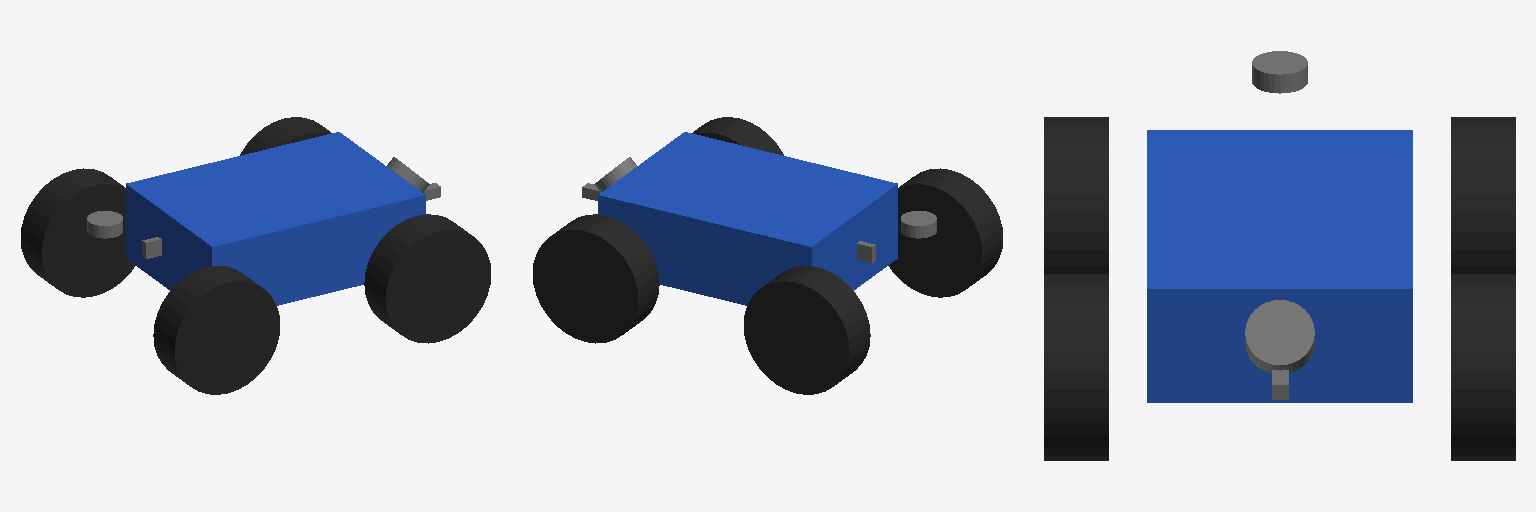
robot.urdf — slip:
<?xml version="1.0"?>
<!-- This URDF was automatically created by SolidWorks to URDF Exporter! Originally created by Stephen Brawner (brawner@gmail.com) 
     Commit Version: 1.6.0-4-g7f85cfe  Build Version: 1.6.7995.38578
     For more information, please see http://wiki.ros.org/sw_urdf_exporter -->
<robot
  name="slip">
  <link
    name="base_link">
    <inertial>
      <origin
        xyz="-0.00351096623508884 0.00311304963751545 0.0860952686335844"
        rpy="0 0 0" />
      <mass
        value="5.0" />
      <inertia
        ixx="0.01394"
        ixy="-0.000011"
        ixz="0.000112"
        iyy="0.01918"
        iyz="0.000014"
        izz="0.02188" />
    </inertial>
    <visual>
      <origin xyz="0.05 0 0.1" rpy="0 0 0" />
      <geometry>
        <box size="0.54 0.38 0.18"/>
      </geometry>
      <material name="blue">
        <color rgba="0.2 0.4 0.8 1"/>
      </material>
    </visual>
    <collision>
      <origin xyz="0.05 0 0.1" rpy="0 0 0" />
      <geometry>
        <box size="0.54 0.38 0.18"/>
      </geometry>
    </collision>
  </link>
  <link
    name="front_left_wheel">
    <inertial>
      <origin
        xyz="-1.33342749659149E-05 -0.000549739183273168 -0.0467828359170405"
        rpy="0 0 0" />
      <mass
        value="0.5" />
      <inertia
        ixx="0.002876"
        ixy="-3.57E-07"
        ixz="-1.35E-08"
        iyy="0.002859"
        iyz="1.14E-05"
        izz="0.004474" />
    </inertial>
    <visual>
      <origin
        xyz="0 0 0"
        rpy="0 0 0" />
      <geometry>
        <cylinder radius="0.134" length="0.093"/>
      </geometry>
      <material name="dark_grey">
        <color rgba="0.2 0.2 0.2 1"/>
      </material>
    </visual>
    <collision>
      <origin xyz="0 0 -0.04678" rpy="0 0 0" />
      <geometry>
        <cylinder radius="0.134" length="0.093"/>
      </geometry>
    </collision>
  </link>
  <joint
    name="front_left_wheel_joint"
    type="continuous">
    <origin
      xyz="0.266860000000023 0.29105 0.040689999999999"
      rpy="-1.5707963267949 0 0" />
    <parent
      link="base_link" />
    <child
      link="front_left_wheel" />
    <axis
      xyz="0 0 1" />
  </joint>
  <link
    name="front_right_wheel">
    <inertial>
      <origin
        xyz="-1.55778595030132E-05 -0.000549737840802395 -0.0467815237578565"
        rpy="0 0 0" />
      <mass
        value="0.5" />
      <inertia
        ixx="0.002876"
        ixy="-3.57E-07"
        ixz="-3.94E-09"
        iyy="0.002859"
        iyz="1.14E-05"
        izz="0.004474" />
    </inertial>
    <visual>
      <origin
        xyz="0 0 0"
        rpy="0 0 0" />
      <geometry>
        <cylinder radius="0.134" length="0.093"/>
      </geometry>
      <material name="dark_grey">
        <color rgba="0.2 0.2 0.2 1"/>
      </material>
    </visual>
    <collision>
      <origin xyz="0 0 -0.04678" rpy="0 0 0" />
      <geometry>
        <cylinder radius="0.134" length="0.093"/>
      </geometry>
    </collision>
  </link>
  <joint
    name="front_right_wheel_joint"
    type="continuous">
    <origin
      xyz="0.266860000000024 -0.291049999999999 0.0406900000000003"
      rpy="-1.5707963267949 0 -3.14159265358979" />
    <parent
      link="base_link" />
    <child
      link="front_right_wheel" />
    <axis
      xyz="0 0 -1" />
  </joint>
  <link
    name="rear_left_wheel">
    <inertial>
      <origin
        xyz="1.23404959611328E-05 0.000549743587111171 -0.0467823898889478"
        rpy="0 0 0" />
      <mass
        value="0.5" />
      <inertia
        ixx="0.002876"
        ixy="-3.57E-07"
        ixz="-1.64E-08"
        iyy="0.002859"
        iyz="-1.14E-05"
        izz="0.004474" />
    </inertial>
    <visual>
      <origin
        xyz="0 0 0"
        rpy="0 0 0" />
      <geometry>
        <cylinder radius="0.134" length="0.093"/>
      </geometry>
      <material name="dark_grey">
        <color rgba="0.2 0.2 0.2 1"/>
      </material>
    </visual>
    <collision>
      <origin xyz="0 0 -0.04678" rpy="0 0 0" />
      <geometry>
        <cylinder radius="0.134" length="0.093"/>
      </geometry>
    </collision>
  </link>
  <joint
    name="rear_left_wheel_joint"
    type="continuous">
    <origin
      xyz="-0.266859999999976 0.29105 0.0406899999999989"
      rpy="1.5707963267949 0 3.14159265358979" />
    <parent
      link="base_link" />
    <child
      link="rear_left_wheel" />
    <axis
      xyz="0 0 1" />
  </joint>
  <link
    name="rear_right_wheel">
    <inertial>
      <origin
        xyz="1.49060315393912E-05 0.00054973478604689 -0.0467818196781258"
        rpy="0 0 0" />
      <mass
        value="0.5" />
      <inertia
        ixx="0.002876"
        ixy="-3.57E-07"
        ixz="3.53E-09"
        iyy="0.002859"
        iyz="-1.14E-05"
        izz="0.004474" />
    </inertial>
    <visual>
      <origin
        xyz="0 0 0"
        rpy="0 0 0" />
      <geometry>
        <cylinder radius="0.134" length="0.093"/>
      </geometry>
      <material name="dark_grey">
        <color rgba="0.2 0.2 0.2 1"/>
      </material>
    </visual>
    <collision>
      <origin xyz="0 0 -0.04678" rpy="0 0 0" />
      <geometry>
        <cylinder radius="0.134" length="0.093"/>
      </geometry>
    </collision>
  </link>
  <joint
    name="rear_right_wheel_joint"
    type="continuous">
    <origin
      xyz="-0.266859999999975 -0.291049999999999 0.0406900000000002"
      rpy="1.5707963267949 0 0" />
    <parent
      link="base_link" />
    <child
      link="rear_right_wheel" />
    <axis
      xyz="0 0 -1" />
  </joint>
  <link
    name="front_lidar">
    <inertial>
      <origin
        xyz="-3.45312616001348E-08 4.40326983208728E-10 0.0162303882472055"
        rpy="0 0 0" />
      <mass
        value="0.0455627274361424" />
      <inertia
        ixx="9.78183551575387E-06"
        ixy="-1.91036562370552E-10"
        ixz="-1.40472076579896E-11"
        iyy="9.78167247162091E-06"
        iyz="9.56500823462719E-14"
        izz="1.62858937637286E-05" />
    </inertial>
    <visual>
      <origin
        xyz="0 0 0"
        rpy="0 0 0" />
      <geometry>
        <cylinder radius="0.05" length="0.04"/>
      </geometry>
      <material name="grey">
        <color rgba="0.5 0.5 0.5 1"/>
      </material>
    </visual>
    <collision>
      <origin
        xyz="0 0 0"
        rpy="0 0 0" />
      <geometry>
        <cylinder radius="0.05" length="0.04"/>
      </geometry>
    </collision>
  </link>

  <joint name="front_lidar_joint" type="fixed">
    <origin xyz="0.379860000000025 0 0.141164032448074" rpy="0 0.78539816339746 0" />
    <parent link="base_link" />
    <child link="front_lidar" />
    <axis xyz="0 0 0" />
  </joint>

  <link
    name="rear_lidar">
    <inertial>
      <origin
        xyz="5.92306655700647E-05 -2.14150818189651E-07 -0.0116280577349046"
        rpy="0 0 0" />
      <mass
        value="0.0436751745291357" />
      <inertia
        ixx="5.92755334020502E-06"
        ixy="1.13872582636253E-07"
        ixz="1.19194919052168E-08"
        iyy="5.88331464486022E-06"
        iyz="7.67735240797594E-11"
        izz="9.61026696222963E-06" />
    </inertial>
    <visual>
      <origin
        xyz="0 0 0"
        rpy="0 0 0" />
      <geometry>
        <cylinder radius="0.04" length="0.03"/>
      </geometry>
      <material name="grey">
        <color rgba="0.5 0.5 0.5 1"/>
      </material>
    </visual>
    <collision>
      <origin
        xyz="0 0 0"
        rpy="0 0 0" />
      <geometry>
        <cylinder radius="0.04" length="0.03"/>
      </geometry>
    </collision>
  </link>
  <joint
    name="rear_lidar_joint"
    type="fixed">
    <origin
      xyz="-0.381491722645238 0 0.205375"
      rpy="0 0 -3.14159265358979" />
    <parent
      link="base_link" />
    <child
      link="rear_lidar" />
    <axis
      xyz="0 0 0" />
  </joint>
  <link
    name="camera">
    <inertial>
      <origin
        xyz="-0.0129389417449517 0.000287974270317556 -2.72058561090749E-05"
        rpy="0 0 0" />
      <mass
        value="1.28622664218702" />
      <inertia
        ixx="0.000774388841731664"
        ixy="1.13924203616145E-05"
        ixz="2.01143062634357E-07"
        iyy="0.000118068862362523"
        iyz="-4.03870185381261E-08"
        izz="0.000784961869807027" />
    </inertial>
    <visual>
      <origin
        xyz="0 0 0"
        rpy="0 0 0" />
      <geometry>
        <box size="0.09 0.025 0.025"/>
      </geometry>
      <material name="grey">
        <color rgba="0.5 0.5 0.5 1"/>
      </material>
    </visual>
    <collision>
      <origin
        xyz="0 0 0"
        rpy="0 0 0" />
      <geometry>
        <box size="0.09 0.025 0.025"/>
      </geometry>
    </collision>
  </link>

  <joint name="camera_joint" type="fixed">
    <origin xyz="0.416860000000024 0.000803101442472448 0.0921899999999972" rpy="0 0 0" />
    <parent link="base_link" />
    <child link="camera" />
    <axis xyz="0 0 0" />
  </joint>
  
  <link
    name="imu">
    <inertial>
      <origin
        xyz="0.267000050794565 0.0333181307240498 -0.0125505694947848"
        rpy="0 0 0" />
      <mass
        value="0.01" />
      <inertia
        ixx="0.0001"
        ixy="0.0"
        ixz="0.0"
        iyy="0.0001"
        iyz="0.0"
        izz="0.0001" />
    </inertial>
    <visual>
      <origin
        xyz="0 0 0"
        rpy="0 0 0" />
      <geometry>
        <box size="0.04 0.04 0.015"/>
      </geometry>
      <material name="grey">
        <color rgba="0.5 0.5 0.5 1"/>
      </material>
    </visual>
    <collision>
      <origin
        xyz="0 0 0"
        rpy="0 0 0" />
      <geometry>
        <box size="0.04 0.04 0.015"/>
      </geometry>
    </collision>
  </link>
  <joint
    name="imu_joint"
    type="fixed">
    <origin
      xyz="-0.255657440803023 0.0126499999999997 0.114264017716475"
      rpy="-1.5707963267949 0 0" />
    <parent
      link="base_link" />
    <child
      link="imu" />
    <axis
      xyz="0 0 0" />
  </joint>

  <!-- Differential Drive -->
  <gazebo>
    <plugin name="gazebo_ros_diff_drive" filename="libgazebo_ros_diff_drive.so">
      <ros>
        <remapping>cmd_vel:=cmd_vel</remapping>
        <remapping>odom:=odom</remapping>
      </ros>
      <left_joint>front_left_wheel_joint</left_joint>
      <left_joint>rear_left_wheel_joint</left_joint>
      <right_joint>front_right_wheel_joint</right_joint>
      <right_joint>rear_right_wheel_joint</right_joint>
      <wheel_separation>0.582</wheel_separation>
      <wheel_diameter>0.268</wheel_diameter>
      <max_wheel_torque>200</max_wheel_torque>
      <max_wheel_acceleration>10.0</max_wheel_acceleration>
      <publish_odom>true</publish_odom>
      <publish_odom_tf>true</publish_odom_tf>
      <publish_wheel_tf>false</publish_wheel_tf>
      <odometry_frame>odom</odometry_frame>
      <robot_base_frame>base_link</robot_base_frame>
    </plugin>
  </gazebo>

  <!-- Joint State Publisher -->
  <gazebo>
    <plugin name="joint_state_publisher" filename="libgazebo_ros_joint_state_publisher.so">
      <ros>
        <remapping>~/out:=joint_states</remapping>
      </ros>
      <update_rate>50</update_rate>
      <joint_name>front_left_wheel_joint</joint_name>
      <joint_name>front_right_wheel_joint</joint_name>
      <joint_name>rear_left_wheel_joint</joint_name>
      <joint_name>rear_right_wheel_joint</joint_name>
    </plugin>
  </gazebo>

  <!-- Wheel friction: mu2 low to allow lateral slip for skid-steer turning -->
  <gazebo reference="front_left_wheel">
    <mu1>1.0</mu1><mu2>0.01</mu2>
  </gazebo>
  <gazebo reference="front_right_wheel">
    <mu1>1.0</mu1><mu2>0.01</mu2>
  </gazebo>
  <gazebo reference="rear_left_wheel">
    <mu1>1.0</mu1><mu2>0.01</mu2>
  </gazebo>
  <gazebo reference="rear_right_wheel">
    <mu1>1.0</mu1><mu2>0.01</mu2>
  </gazebo>

  <!-- Front LiDAR: RoboSense Airy (3D, approximated as multi-layer ray sensor) -->
  <gazebo reference="front_lidar">
    <sensor type="ray" name="front_lidar_sensor">
      <visualize>false</visualize>
      <update_rate>10</update_rate>
      <ray>
        <scan>
          <horizontal>
            <samples>128</samples>
            <resolution>1</resolution>
            <min_angle>-3.14159265</min_angle>
            <max_angle>3.14159265</max_angle>
          </horizontal>
          <vertical>
            <samples>16</samples>
            <resolution>1</resolution>
            <min_angle>-1.5707963</min_angle>
            <max_angle>1.5707963</max_angle>
          </vertical>
        </scan>
        <range>
          <min>0.1</min>
          <max>30.0</max>
          <resolution>0.01</resolution>
        </range>
        <noise>
          <type>gaussian</type>
          <mean>0.0</mean>
          <stddev>0.01</stddev>
        </noise>
      </ray>
      <plugin name="front_lidar_plugin" filename="libgazebo_ros_ray_sensor.so">
        <ros>
          <remapping>~/out:=front_lidar/points</remapping>
        </ros>
        <output_type>sensor_msgs/PointCloud2</output_type>
        <frame_name>front_lidar</frame_name>
      </plugin>
    </sensor>
  </gazebo>

  <!-- Rear LiDAR: YDLiDAR T-mini Plus (2D, 180 degrees) -->
  <gazebo reference="rear_lidar">
    <sensor type="ray" name="rear_lidar_sensor">
      <visualize>false</visualize>
      <update_rate>10</update_rate>
      <ray>
        <scan>
          <horizontal>
            <samples>720</samples>
            <resolution>1</resolution>
            <min_angle>-1.5707963</min_angle>
            <max_angle>1.5707963</max_angle>
          </horizontal>
        </scan>
        <range>
          <min>0.02</min>
          <max>12.0</max>
          <resolution>0.01</resolution>
        </range>
        <noise>
          <type>gaussian</type>
          <mean>0.0</mean>
          <stddev>0.01</stddev>
        </noise>
      </ray>
      <plugin name="rear_lidar_plugin" filename="libgazebo_ros_ray_sensor.so">
        <ros>
          <remapping>~/out:=rear_lidar/scan</remapping>
        </ros>
        <output_type>sensor_msgs/LaserScan</output_type>
        <frame_name>rear_lidar</frame_name>
      </plugin>
    </sensor>
  </gazebo>

  <!-- IMU: Adafruit BNO085 -->
  <gazebo reference="imu">
    <sensor name="imu_sensor" type="imu">
      <always_on>true</always_on>
      <update_rate>100</update_rate>
      <imu>
        <angular_velocity>
          <x><noise type="gaussian"><mean>0.0</mean><stddev>0.009</stddev></noise></x>
          <y><noise type="gaussian"><mean>0.0</mean><stddev>0.009</stddev></noise></y>
          <z><noise type="gaussian"><mean>0.0</mean><stddev>0.009</stddev></noise></z>
        </angular_velocity>
        <linear_acceleration>
          <x><noise type="gaussian"><mean>0.0</mean><stddev>0.021</stddev></noise></x>
          <y><noise type="gaussian"><mean>0.0</mean><stddev>0.021</stddev></noise></y>
          <z><noise type="gaussian"><mean>0.0</mean><stddev>0.021</stddev></noise></z>
        </linear_acceleration>
      </imu>
      <plugin name="imu_plugin" filename="libgazebo_ros_imu_sensor.so">
        <ros>
          <remapping>~/out:=imu/data</remapping>
        </ros>
        <frame_name>imu</frame_name>
        <initial_orientation_as_reference>false</initial_orientation_as_reference>
      </plugin>
    </sensor>
  </gazebo>

  <!-- Camera: Intel RealSense D435i (depth + RGB) -->
  <gazebo reference="camera">
    <sensor name="camera_sensor" type="depth">
      <always_on>true</always_on>
      <update_rate>30</update_rate>
      <visualize>false</visualize>
      <camera name="camera">
        <horizontal_fov>1.5184</horizontal_fov>
        <image>
          <width>848</width>
          <height>480</height>
          <format>R8G8B8</format>
        </image>
        <clip>
          <near>0.1</near>
          <far>10.0</far>
        </clip>
        <noise>
          <type>gaussian</type>
          <mean>0.0</mean>
          <stddev>0.005</stddev>
        </noise>
      </camera>
      <plugin name="camera_plugin" filename="libgazebo_ros_openni_kinect.so">
        <ros>
          <remapping>~/image_raw:=camera/color/image_raw</remapping>
          <remapping>~/depth/image_raw:=camera/depth/image_raw</remapping>
          <remapping>~/points:=camera/depth/points</remapping>
          <remapping>~/camera_info:=camera/color/camera_info</remapping>
        </ros>
        <camera_name>camera</camera_name>
        <frame_name>camera</frame_name>
        <hack_baseline>0.07</hack_baseline>
      </plugin>
    </sensor>
  </gazebo>

</robot>

--- What the picture shows (computed from the rendered views, not written in the file) ---
Views: 3 orthographic renders of the robot side by side, from view 1: azimuth 30°, elevation 25°; view 2: azimuth 150°, elevation 25°; view 3: azimuth 270°, elevation 25°.
Robot: slip — 9 links, 8 joints (4 continuous, 4 fixed); root link base_link; default pose: all joints at 0.
Links seen in each view (by area): view 1: base_link, rear_right_wheel, front_right_wheel, rear_left_wheel, front_left_wheel, rear_lidar, front_lidar; view 2: base_link, rear_left_wheel, front_left_wheel, rear_right_wheel, front_right_wheel, rear_lidar, front_lidar; view 3: base_link, front_left_wheel, front_right_wheel, rear_left_wheel, rear_right_wheel, front_lidar, rear_lidar.
Link boxes in pixels (x1,y1,x2,y2): base_link: (126, 132, 425, 305); rear_right_wheel: (153, 266, 279, 394); front_right_wheel: (364, 214, 490, 343); rear_left_wheel: (21, 168, 135, 297); front_left_wheel: (240, 117, 330, 155); rear_lidar: (87, 211, 122, 238); front_lidar: (387, 157, 429, 192); base_link: (598, 132, 897, 305); rear_left_wheel: (744, 266, 870, 394); front_left_wheel: (533, 214, 659, 343); rear_right_wheel: (888, 168, 1002, 297); front_right_wheel: (693, 117, 783, 155); rear_lidar: (901, 211, 936, 238); front_lidar: (594, 157, 636, 192); base_link: (1147, 130, 1412, 402); front_left_wheel: (1451, 274, 1515, 460); front_right_wheel: (1044, 274, 1108, 460); rear_left_wheel: (1451, 117, 1515, 273); rear_right_wheel: (1044, 117, 1108, 273); front_lidar: (1245, 300, 1314, 373); rear_lidar: (1252, 51, 1307, 93).
Bounding box of the posed robot: 0.8834 × 0.6751 × 0.3137 m (x, y, z).
Geometry: primitives only (box / cylinder / sphere), no mesh files.
